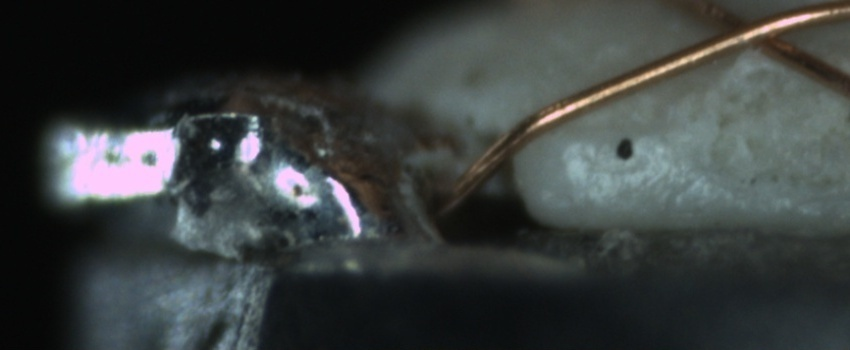CL: (686, 2, 813, 65)
